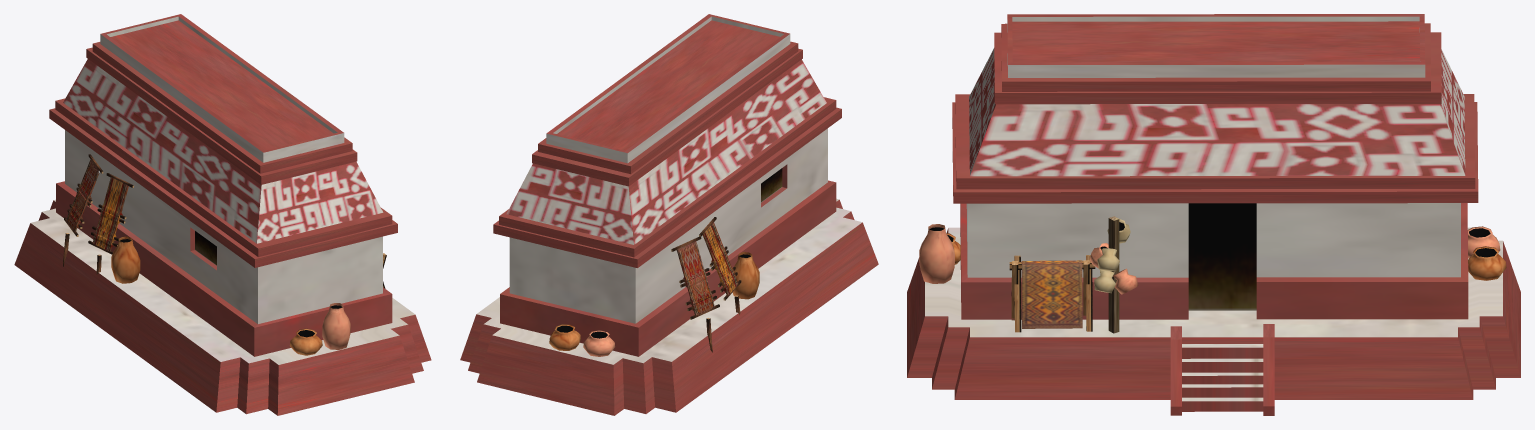
File: house_nobre_4.dae
3 views of the same model, side by side, from view 1: azimuth 30°, elevation 25°; view 2: azimuth 150°, elevation 25°; view 3: azimuth 270°, elevation 25° (orthographic). The views are drawn at different scales.
Parts seen in each view (by area): view 1: house_nobre_4; view 2: house_nobre_4; view 3: house_nobre_4.
Part boxes in pixels (x1=…): house_nobre_4: x1=14, y1=14, x2=431, y2=415; house_nobre_4: x1=460, y1=14, x2=878, y2=415; house_nobre_4: x1=907, y1=14, x2=1520, y2=415.
Bounding box in the file's own units: 9.15 × 15.73 × 8.3.
